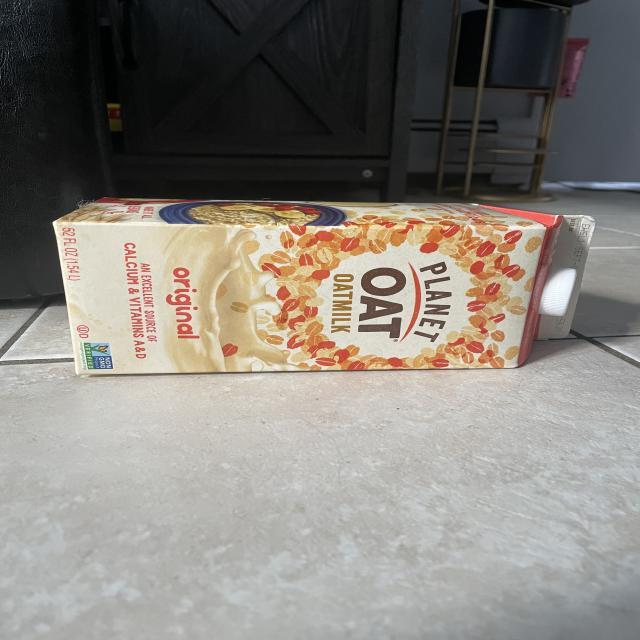Planet Oat Original: (51, 191, 600, 378)
